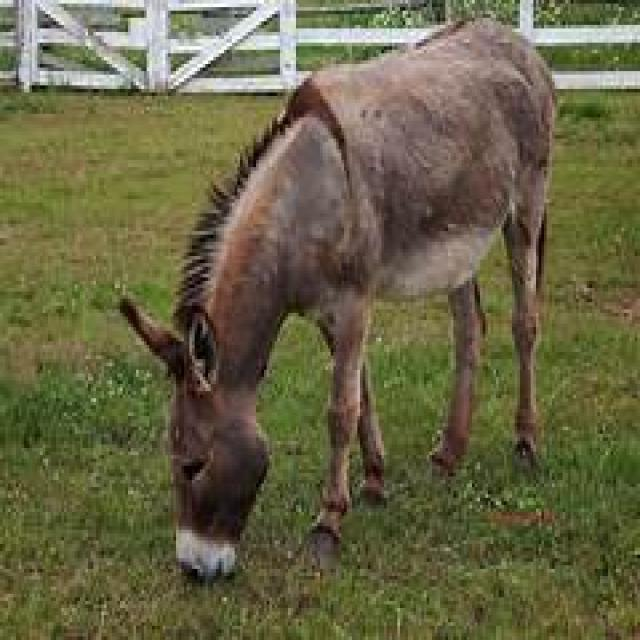Donkey: (107, 27, 592, 591)
